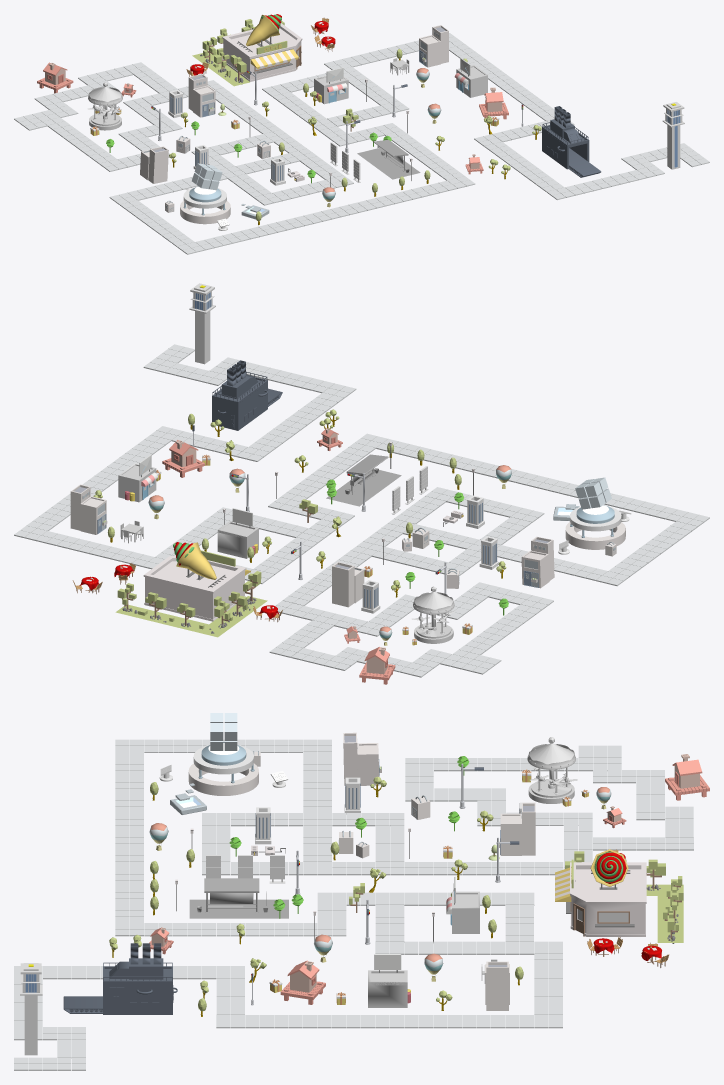
The model's file is maze.glb.
3 renders of one model, top to bottom at view 1: azimuth 30°, elevation 25°; view 2: azimuth 150°, elevation 25°; view 3: azimuth 270°, elevation 25°, orthographic. The views are drawn at different scales.
Parts seen in each view (by area): view 1: building7, building1, Torus, mofang, Cylinder_003, dec_2, Tower, door, door_1, fence, fence_2, Grass; view 2: building7, building1, mofang, Torus, dec_2, Cylinder_003, Grass, door, Tower, door_1, fence_2, fence; view 3: building7, Torus, building1, mofang, Cylinder_003, dec_2, door_1, Tower, door, fence, fence_2, Grass (+3 smaller).
Part boxes in pixels (box(x1,y1,x2,y2)): building7: box(222, 14, 302, 81); building1: box(140, 25, 448, 183); Torus: box(542, 106, 601, 177); mofang: box(180, 163, 230, 224); Cylinder_003: box(357, 139, 420, 179); dec_2: box(88, 82, 122, 130); Tower: box(662, 102, 684, 169); door: box(314, 67, 348, 104); door_1: box(454, 58, 487, 97); fence: box(37, 62, 73, 93); fence_2: box(479, 87, 508, 119); Grass: box(192, 48, 249, 86); building7: box(143, 542, 250, 621); building1: box(70, 484, 554, 607); mofang: box(565, 477, 625, 549); Torus: box(212, 360, 282, 430); dec_2: box(412, 586, 454, 643); Cylinder_003: box(326, 454, 401, 506); Grass: box(115, 596, 267, 637); door: box(217, 508, 258, 558); Tower: box(189, 283, 215, 364); door_1: box(118, 454, 157, 502); fence_2: box(162, 440, 204, 477); fence: box(359, 647, 395, 684); building7: box(555, 849, 646, 936); Torus: box(63, 943, 177, 1014); building1: box(343, 732, 535, 1010); mofang: box(188, 713, 258, 795); Cylinder_003: box(189, 878, 288, 918); dec_2: box(527, 737, 577, 803); door_1: box(368, 954, 410, 1007); Tower: box(20, 963, 42, 1055); door: box(446, 876, 479, 933); fence: box(665, 754, 709, 800); fence_2: box(280, 960, 325, 1004); Grass: box(646, 884, 683, 942).
Size of the model in its own units: 11.07 by 1.43 by 9.87.
